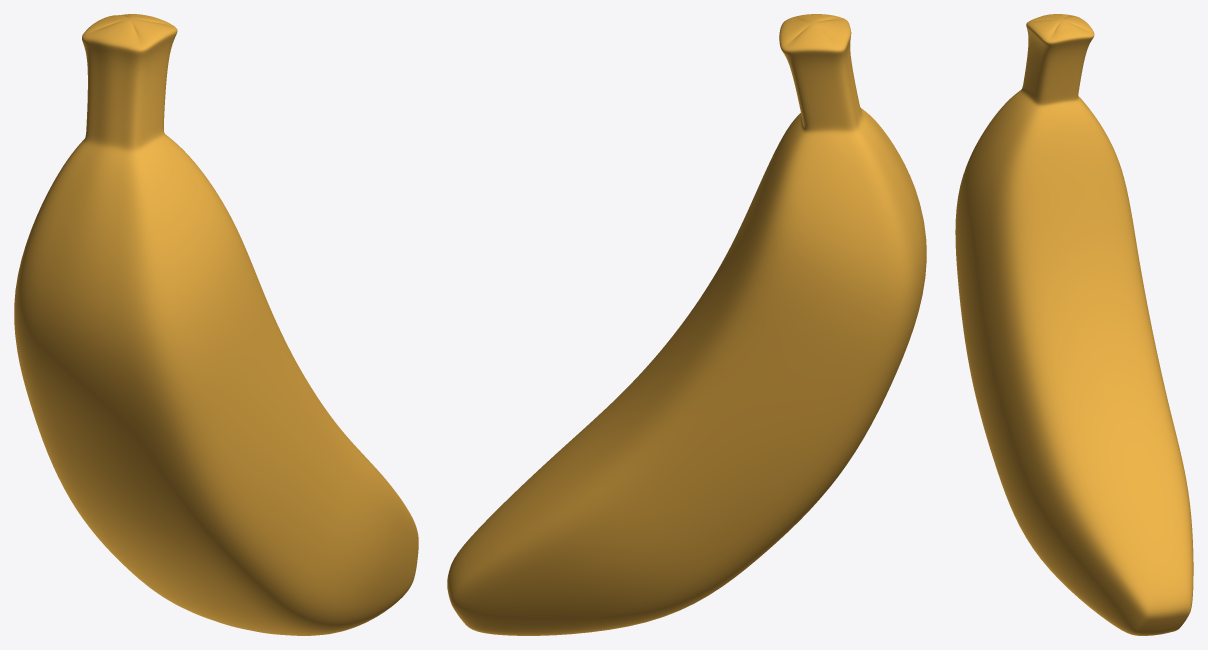
The model's file is banana.glb.
The picture shows the model from 3 angles, left to right: view 1: azimuth 30°, elevation 25°; view 2: azimuth 150°, elevation 25°; view 3: azimuth 270°, elevation 25°; orthographic projection. The views are drawn at different scales.
Visible parts, largest first — view 1: Cube.002; view 2: Cube.002; view 3: Cube.002.
Boxes of the visible parts, <box> form: Cube.002: <box>14,14,418,635</box>; Cube.002: <box>447,14,926,635</box>; Cube.002: <box>955,14,1193,635</box>.
Bounding box in the file's own units: 1.3 × 1.9 × 0.8089.
